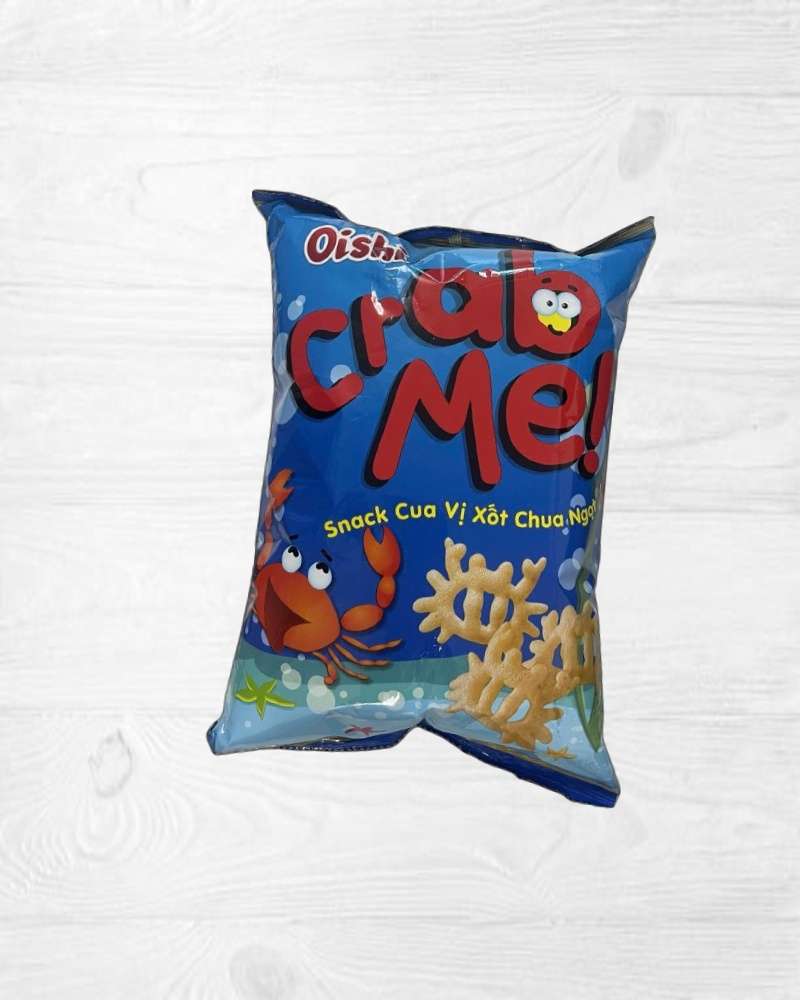Snack chay: (202, 182, 670, 811)
